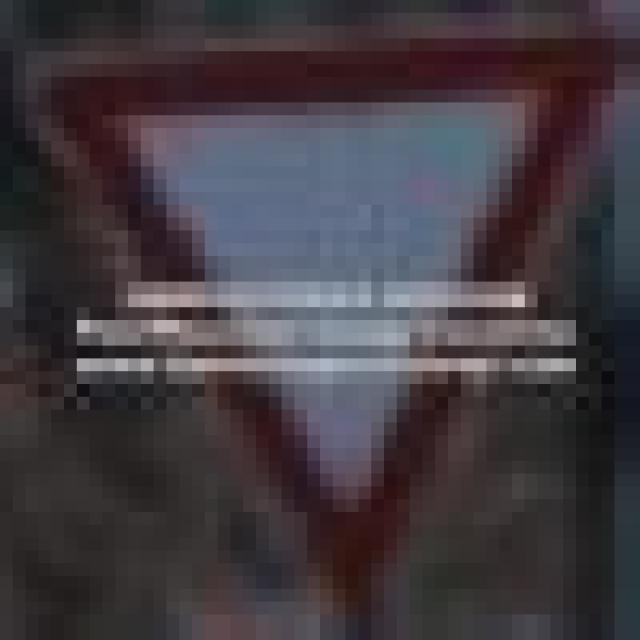GIVE_WAY: (13, 38, 589, 576)
